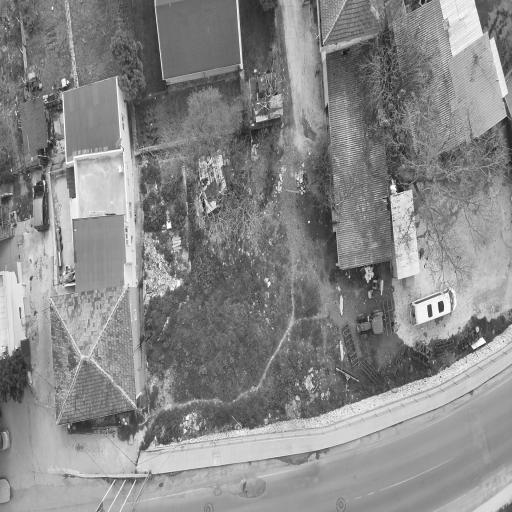car: (409, 287, 455, 324), (32, 179, 48, 230), (357, 311, 384, 337), (0, 429, 9, 449)
